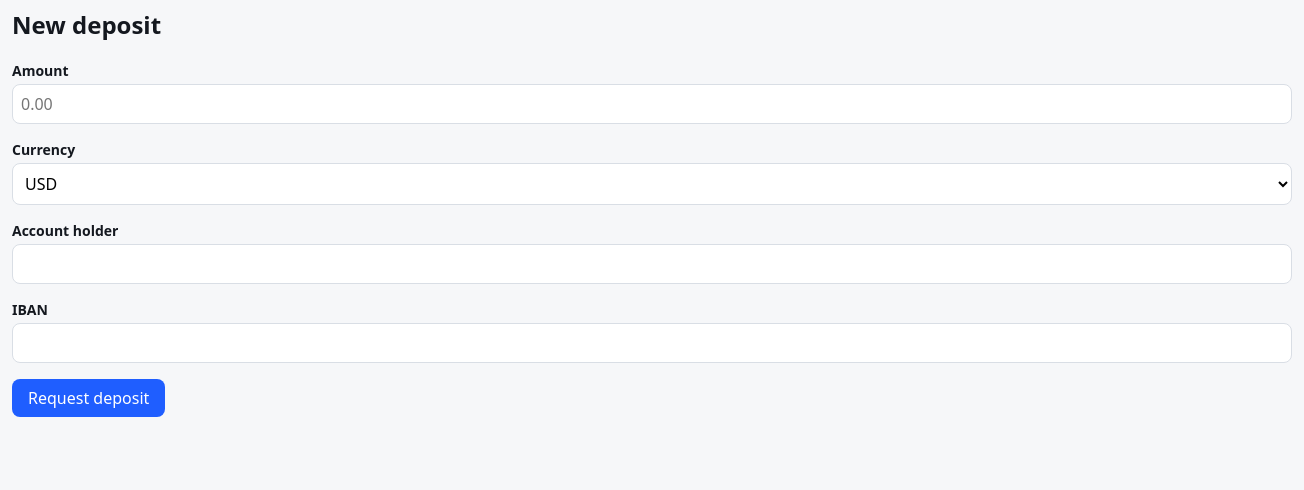
DepositForm (S1, S4) › submits a contract-shaped request with integer cents and a normalized IBAN
In the field labelled "Amount": (652, 104) [12,84,1292,124], type "50,000.50"
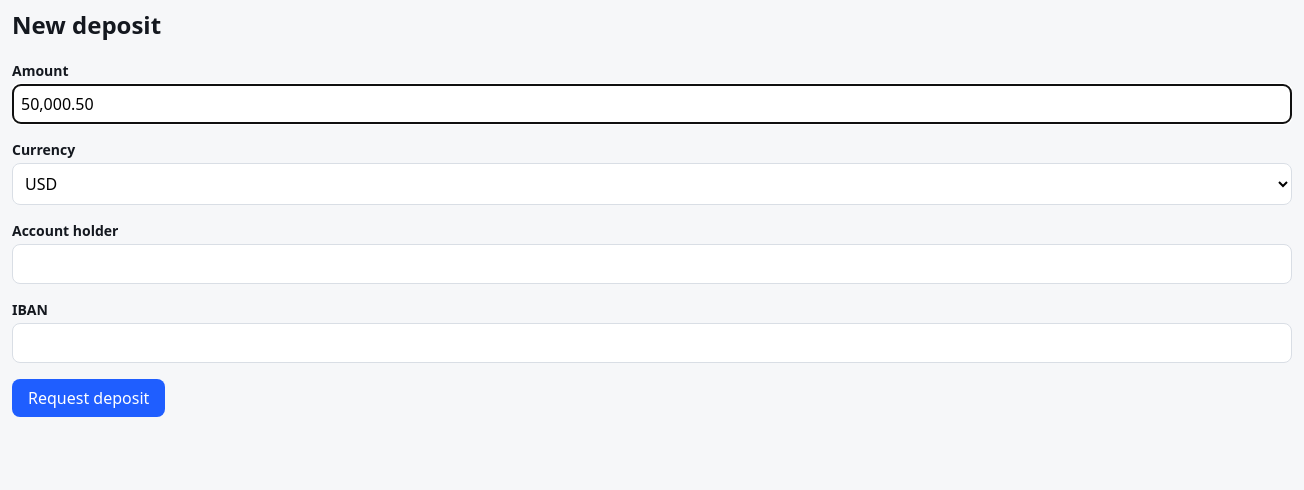
In the field labelled "Account holder": (652, 264) [12,244,1292,284], type " Jane Doe "
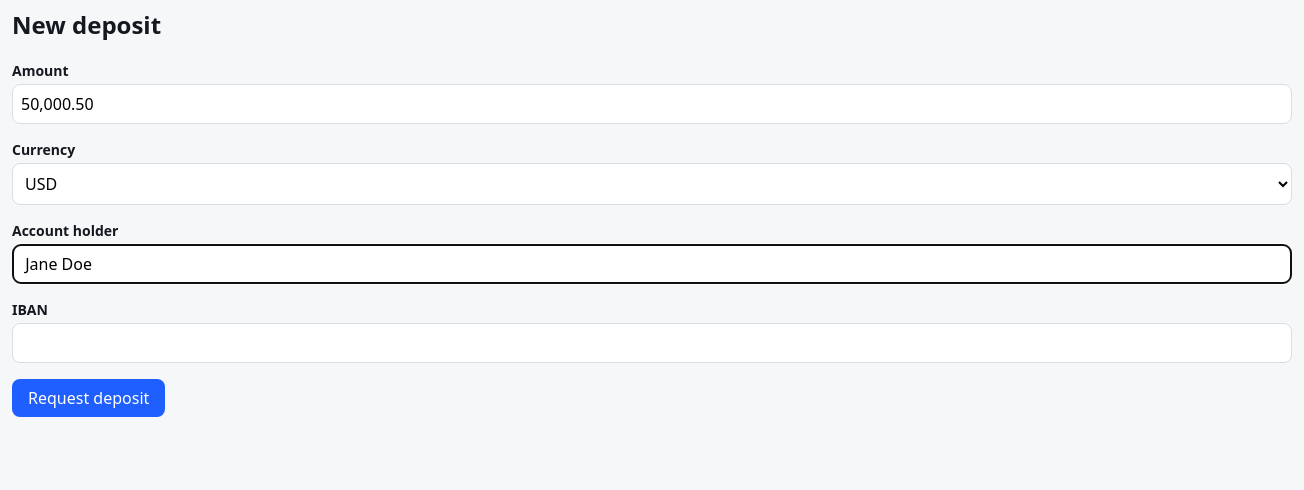
In the field labelled "IBAN": (652, 343) [12,323,1292,363], type "gb82 west 1234 5698 7654 32"
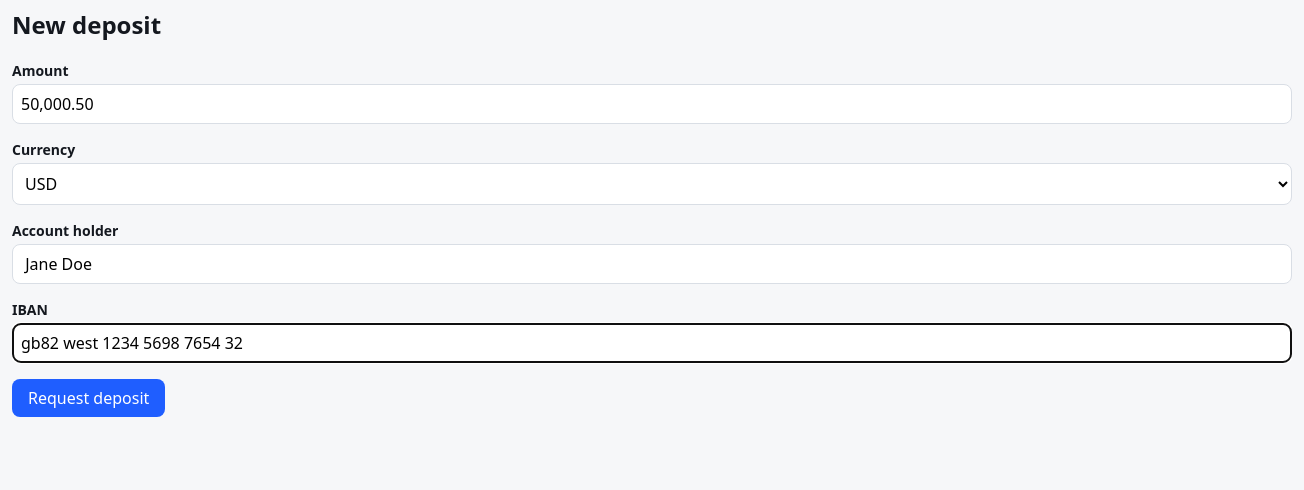
Click the button "Request deposit": (89, 398) [12,379,165,417]
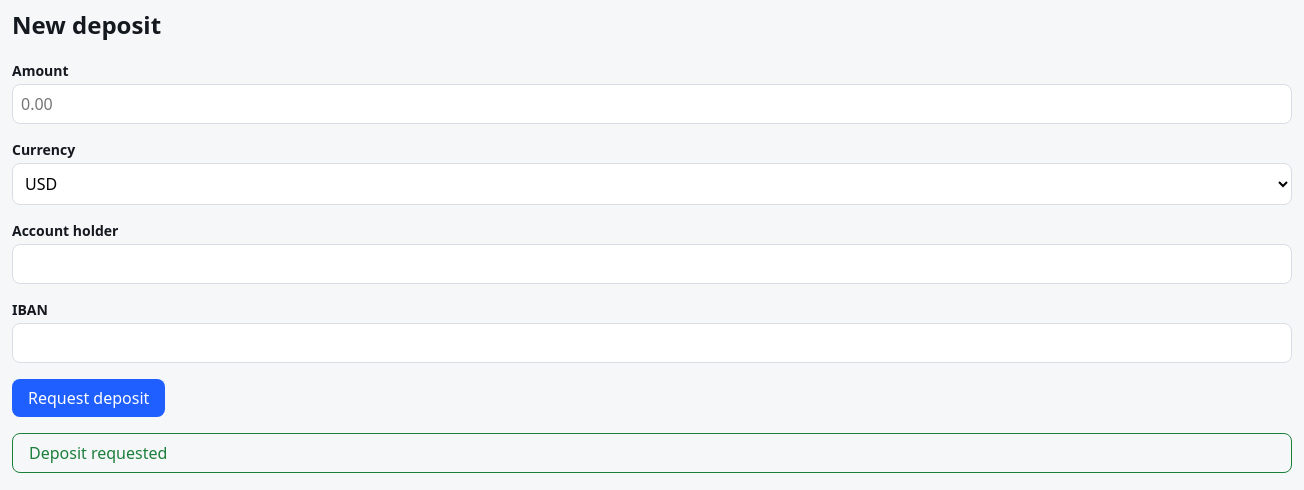
Expected: the message reads "Deposit requested", [29,442,167,464]
Expected: the field labelled "Amount" is empty, [12,84,1292,124]
